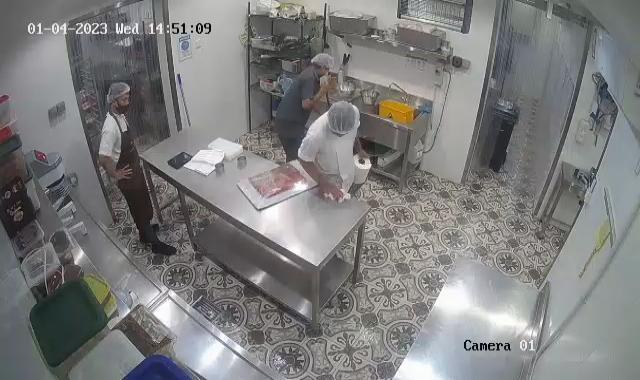gloves: (326, 101, 359, 140), (104, 80, 131, 105), (311, 47, 334, 74)
mask: (106, 95, 139, 116)
no_apron: (318, 175, 351, 211), (107, 163, 142, 189), (354, 137, 376, 164), (313, 80, 335, 94)
